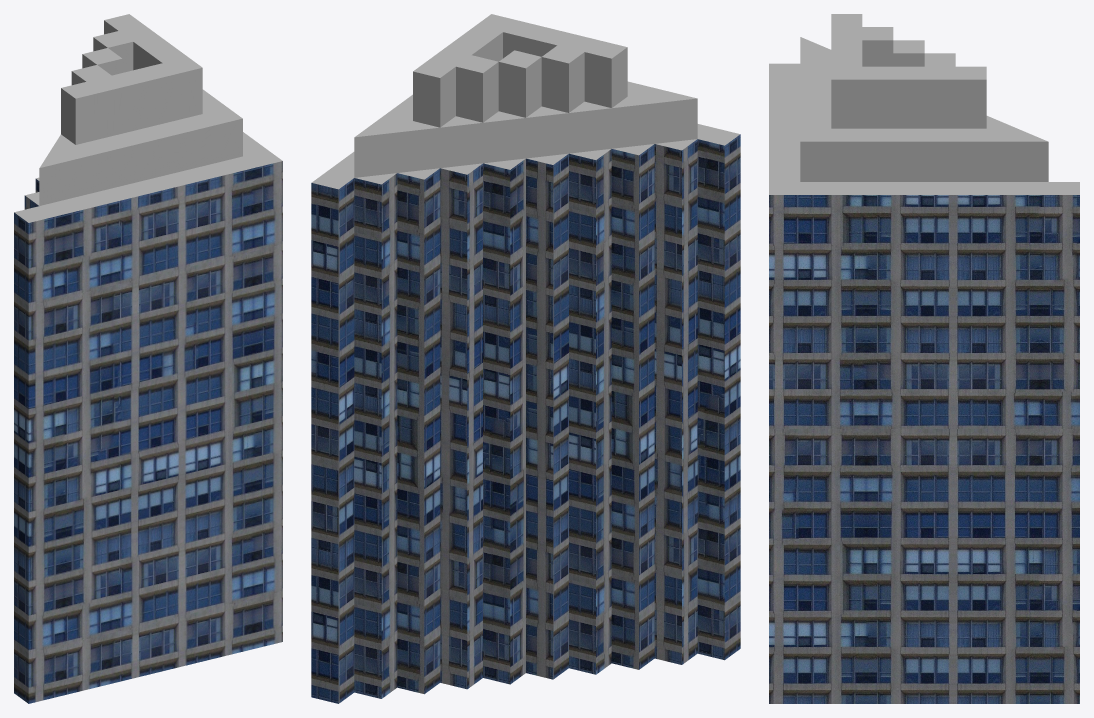
File: Building 1.fbx
3 renders of one model, left to right at view 1: azimuth 30°, elevation 25°; view 2: azimuth 150°, elevation 25°; view 3: azimuth 270°, elevation 25°, orthographic. The views are drawn at different scales.
Visible parts, largest first — view 1: pPlane1; view 2: pPlane1; view 3: pPlane1.
Boxes of the visible parts, box(x1,y1,x2,y2) form: pPlane1: box(14, 14, 282, 703); pPlane1: box(311, 14, 740, 703); pPlane1: box(769, 14, 1079, 703).
Bounding box in the file's own units: 0.01 × 0.0212 × 0.01.
4 materials, 1 textured.
